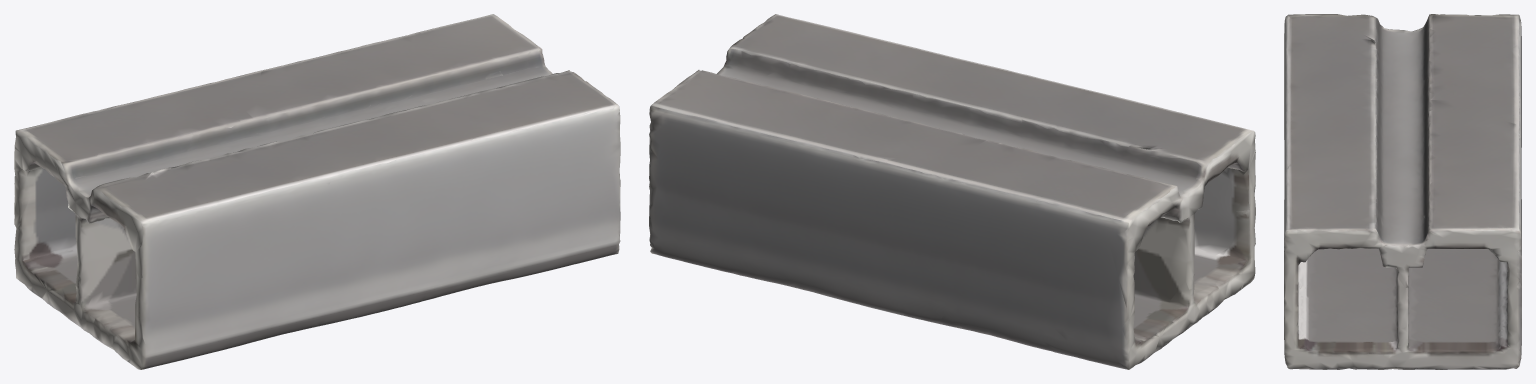
The model's file is base_basic_pbr.glb.
3 views of the same model, side by side, from view 1: azimuth 30°, elevation 25°; view 2: azimuth 150°, elevation 25°; view 3: azimuth 270°, elevation 25° (orthographic). The views are drawn at different scales.
Visible parts, largest first — view 1: model; view 2: model; view 3: model.
Part boxes in pixels (<box>): model: <box>14,14,620,369</box>; model: <box>649,14,1255,369</box>; model: <box>1284,14,1521,369</box>.
Size of the model in its own units: 1.9 by 0.575 by 0.8834.
1 material, 1 textured.
